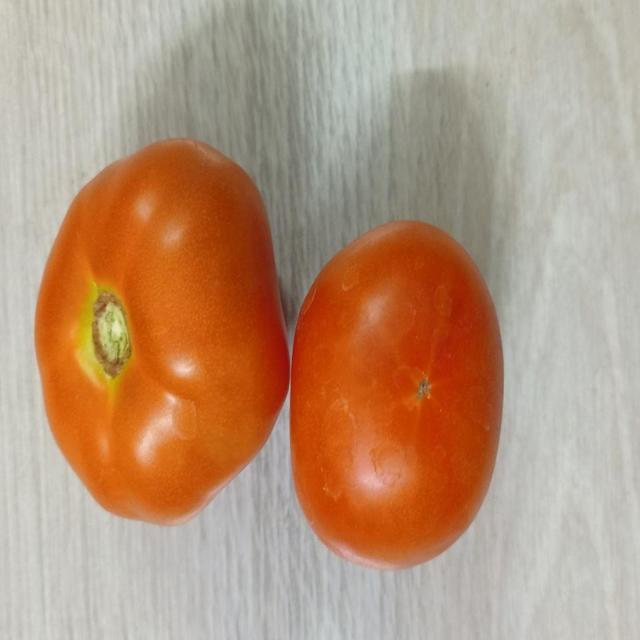Healthy Fruit: (107, 222, 266, 268)
